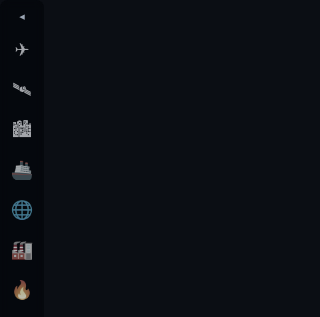
HudLayerRail › clicking an open domain icon toggles the flyout closed
The image size is (320, 317).
Click the menu item named "海洋 Sea" at (22, 168), box 4,150 -> 40,186
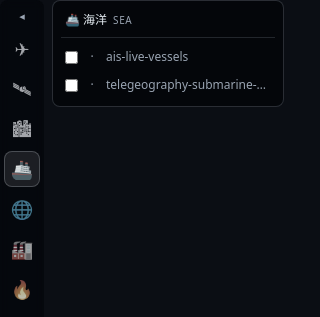
Expected: the element with class "hud-rail-flyout" is shown, 52,0 -> 284,107
Click the menu item named "海洋 Sea" at (22, 168), box 4,150 -> 40,186
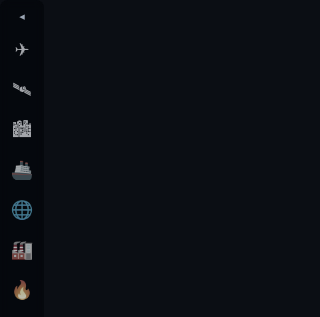
Expected: the element with class "hud-rail-flyout" is gone
